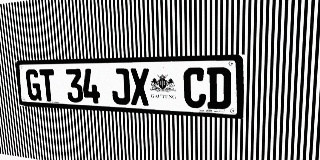3: (65, 69, 83, 103)
4: (82, 69, 100, 104)
C: (183, 67, 206, 108)
D: (207, 67, 231, 110)
G: (25, 69, 42, 101)
J: (111, 68, 130, 105)
T: (39, 69, 56, 102)
X: (129, 68, 150, 106)
